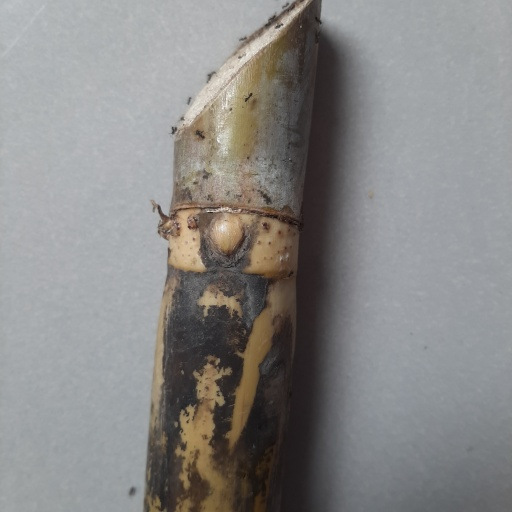Bud: (208, 212, 247, 257)
